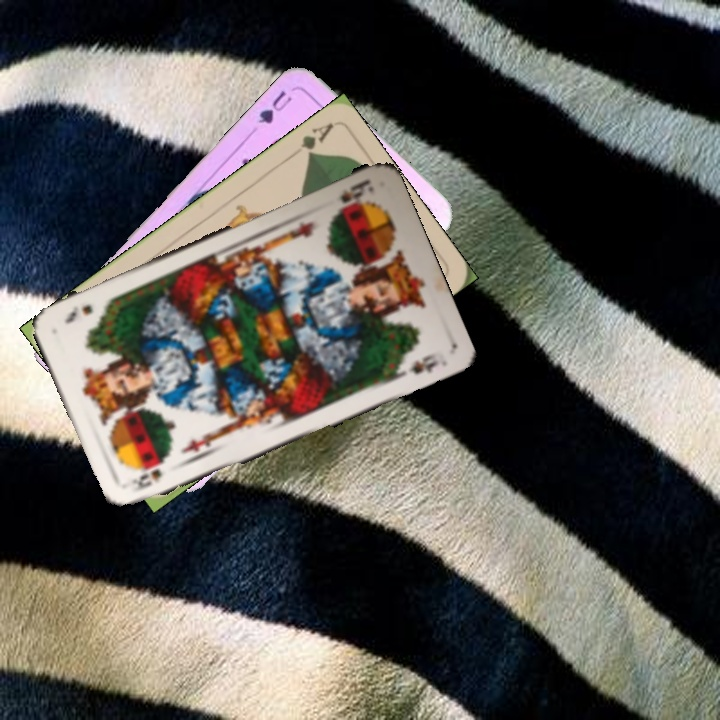GA: (285, 119, 336, 162)
GU: (253, 86, 295, 127)
SK: (333, 175, 377, 213), (127, 464, 165, 495)
